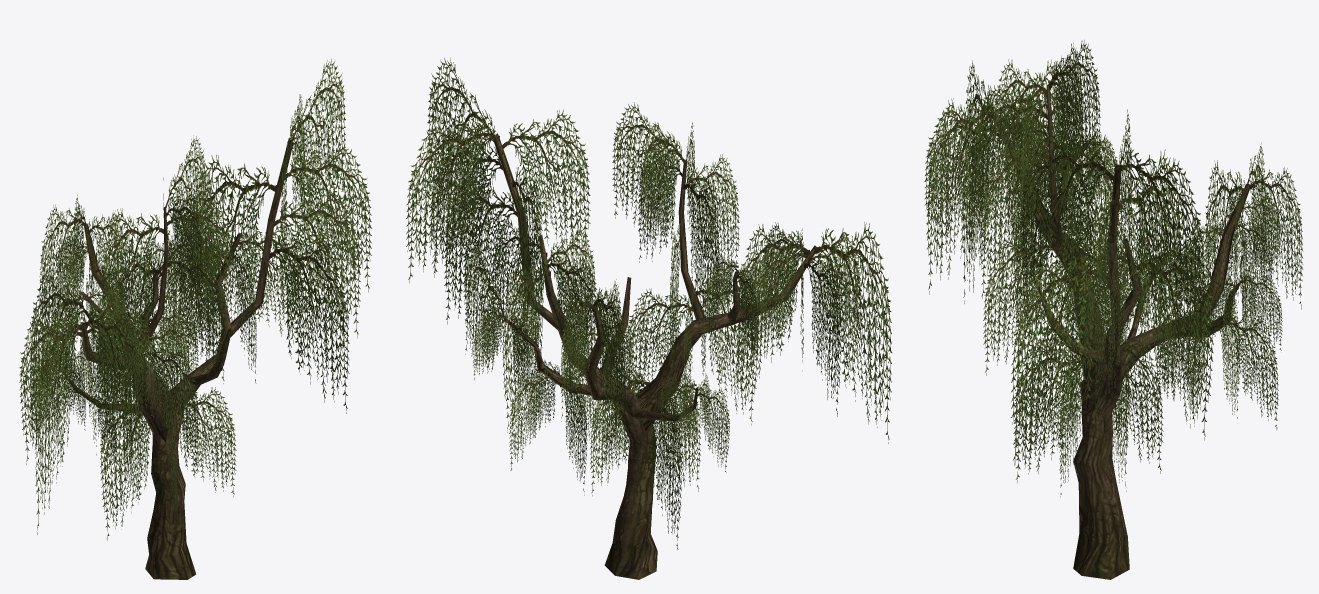
File: liushu_66.FBX
3 views of the same model, side by side, from view 1: azimuth 30°, elevation 25°; view 2: azimuth 150°, elevation 25°; view 3: azimuth 270°, elevation 25° (orthographic). The views are drawn at different scales.
Parts seen in each view (by area): view 1: liushu_66_shuye, liushu_66_ncl1_2; view 2: liushu_66_shuye, liushu_66_ncl1_2; view 3: liushu_66_shuye, liushu_66_ncl1_2.
Part boxes in pixels (x1,y1,x2,y2): liushu_66_shuye: [19, 58, 372, 546]; liushu_66_ncl1_2: [53, 138, 293, 579]; liushu_66_shuye: [406, 58, 892, 549]; liushu_66_ncl1_2: [493, 133, 816, 579]; liushu_66_shuye: [924, 40, 1303, 496]; liushu_66_ncl1_2: [995, 84, 1250, 579].
Size of what is drawn, in the model's own units: 2251 by 2737 by 1575.
